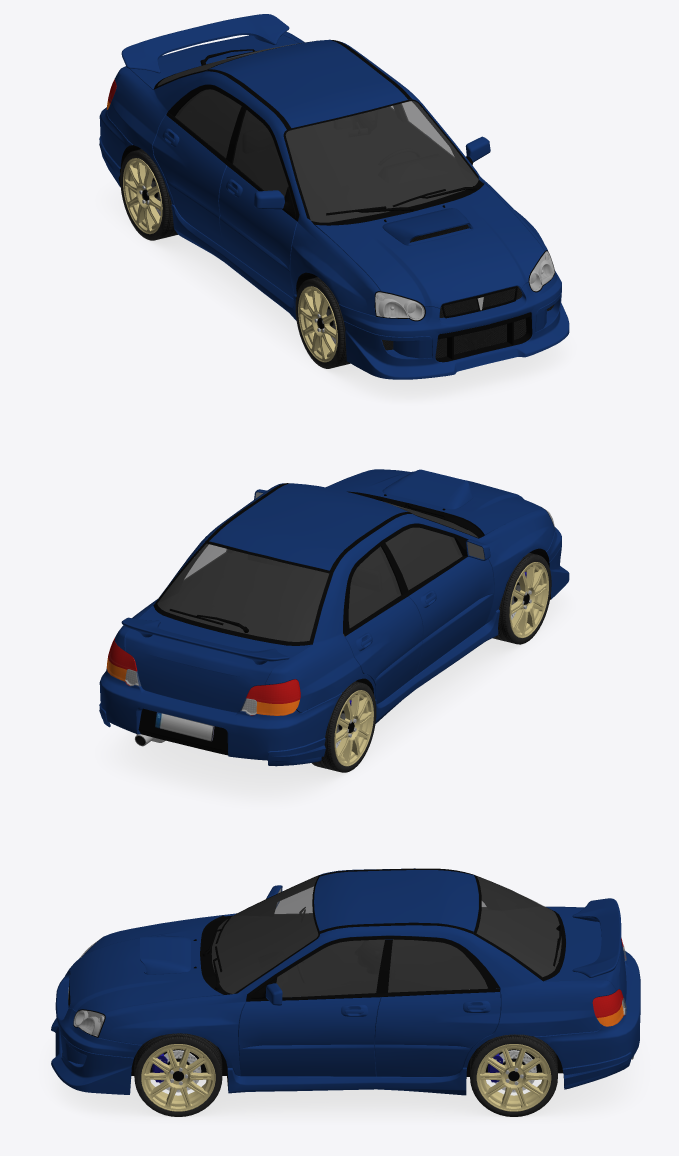
File: toyama.glb
The picture shows the model from 3 angles, top to bottom: view 1: azimuth 30°, elevation 25°; view 2: azimuth 150°, elevation 25°; view 3: azimuth 270°, elevation 25°; orthographic projection. The views are drawn at different scales.
Visible parts, largest first — view 1: Body_Paint_Body_Paint_0, Glass_Body_Glass_0, Perfect_Black_Perfect_Black_0, Shadow_Shadow_0, Details_Body_Plastic_0, Details_Textures_0, Wheel_RR_Body_Alloy_0, Wheel_FR_Body_Alloy_0, Wheel_RR_Tire_0, Wheel_FR_Tire_0, Details_Body_Paint_0; view 2: Body_Paint_Body_Paint_0, Glass_Body_Glass_0, Perfect_Black_Perfect_Black_0, Shadow_Shadow_0, Details_Body_Plastic_0, Wheel_RR_Body_Alloy_0, Wheel_FR_Body_Alloy_0, Glass_Body_Glass_Red_0, Wheel_FR_Tire_0, Wheel_RR_Tire_0, Details_Textures_0, Glass_Body_Glass_Orange_0; view 3: Body_Paint_Body_Paint_0, Glass_Body_Glass_0, Perfect_Black_Perfect_Black_0, Shadow_Shadow_0, Details_Body_Plastic_0, Wheel_FL_Body_Alloy_0, Wheel_RL_Body_Alloy_0, Wheel_FL_Tire_0, Wheel_RL_Tire_0, Glass_Body_Glass_Red_0, Details_Textures_0, Details_Body_Paint_0.
Part boxes in pixels (<box>): Body_Paint_Body_Paint_0: <box>99,14,569,379</box>; Glass_Body_Glass_0: <box>158,41,555,320</box>; Perfect_Black_Perfect_Black_0: <box>118,54,478,298</box>; Shadow_Shadow_0: <box>108,187,567,402</box>; Details_Body_Plastic_0: <box>153,39,554,362</box>; Details_Textures_0: <box>375,224,554,358</box>; Wheel_RR_Body_Alloy_0: <box>123,158,162,234</box>; Wheel_FR_Body_Alloy_0: <box>298,286,337,362</box>; Wheel_RR_Tire_0: <box>120,149,177,240</box>; Wheel_FR_Tire_0: <box>295,277,350,368</box>; Details_Body_Paint_0: <box>253,136,490,209</box>; Body_Paint_Body_Paint_0: <box>99,469,569,766</box>; Glass_Body_Glass_0: <box>125,501,555,715</box>; Perfect_Black_Perfect_Black_0: <box>135,494,550,745</box>; Shadow_Shadow_0: <box>108,591,567,803</box>; Details_Body_Plastic_0: <box>138,483,554,755</box>; Wheel_RR_Body_Alloy_0: <box>334,690,373,766</box>; Wheel_FR_Body_Alloy_0: <box>509,562,548,637</box>; Glass_Body_Glass_Red_0: <box>108,638,300,715</box>; Wheel_FR_Tire_0: <box>493,553,551,644</box>; Wheel_RR_Tire_0: <box>312,681,376,772</box>; Details_Textures_0: <box>125,513,549,741</box>; Glass_Body_Glass_Orange_0: <box>106,658,299,715</box>; Body_Paint_Body_Paint_0: <box>51,868,640,1095</box>; Glass_Body_Glass_0: <box>73,876,626,1036</box>; Perfect_Black_Perfect_Black_0: <box>130,876,564,1090</box>; Shadow_Shadow_0: <box>50,1043,636,1120</box>; Details_Body_Plastic_0: <box>62,868,565,1056</box>; Wheel_FL_Body_Alloy_0: <box>141,1044,215,1111</box>; Wheel_RL_Body_Alloy_0: <box>476,1044,551,1111</box>; Wheel_FL_Tire_0: <box>134,1033,222,1116</box>; Wheel_RL_Tire_0: <box>470,1034,557,1116</box>; Glass_Body_Glass_Red_0: <box>592,938,625,1017</box>; Details_Textures_0: <box>74,1000,625,1036</box>; Details_Body_Paint_0: <box>265,885,282,1005</box>.
Bounding box in the file's own units: 2.59 × 1.45 × 4.9.
Materials: 11 (3 with a texture image).
